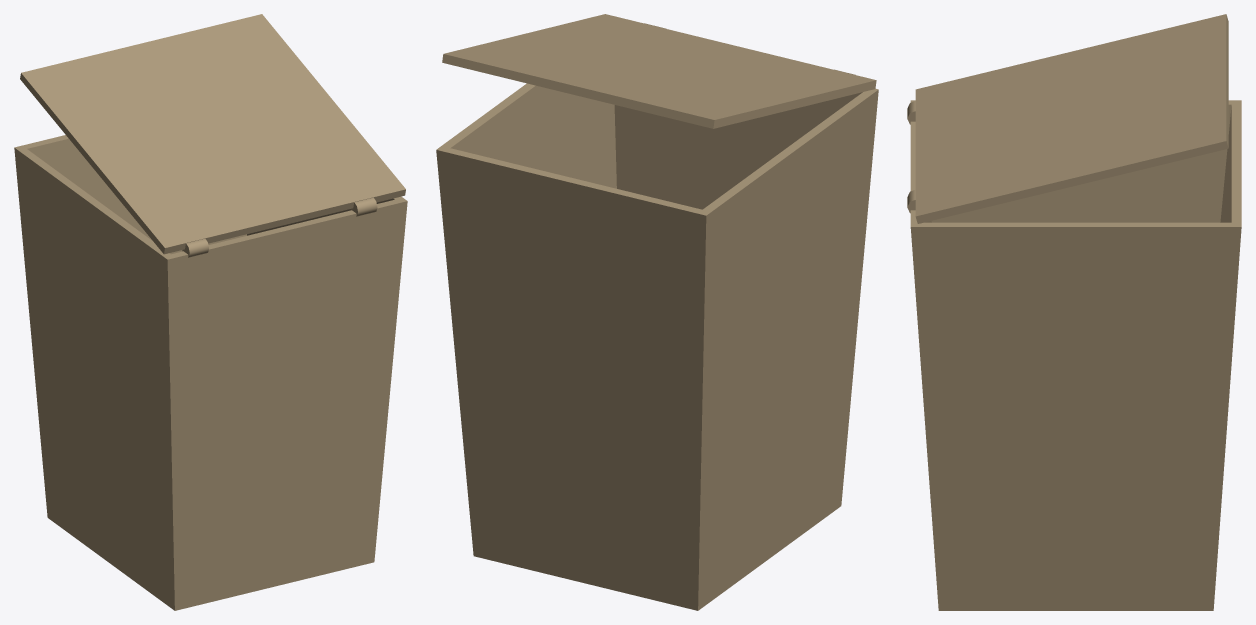
Rendered from SM_Trash_01.fbx.
3 renders of one model, left to right at view 1: azimuth 30°, elevation 25°; view 2: azimuth 150°, elevation 25°; view 3: azimuth 270°, elevation 25°, orthographic. The views are drawn at different scales.
Visible parts, largest first — view 1: SM_Trash_01; view 2: SM_Trash_01; view 3: SM_Trash_01.
Part boxes in pixels (x1,y1,x2,y2): SM_Trash_01: (14,14,407,610); SM_Trash_01: (436,14,878,610); SM_Trash_01: (907,14,1241,610).
Size of the model in its own units: 30.17 by 53.28 by 33.56.
Materials: 1 (1 with a texture image).
